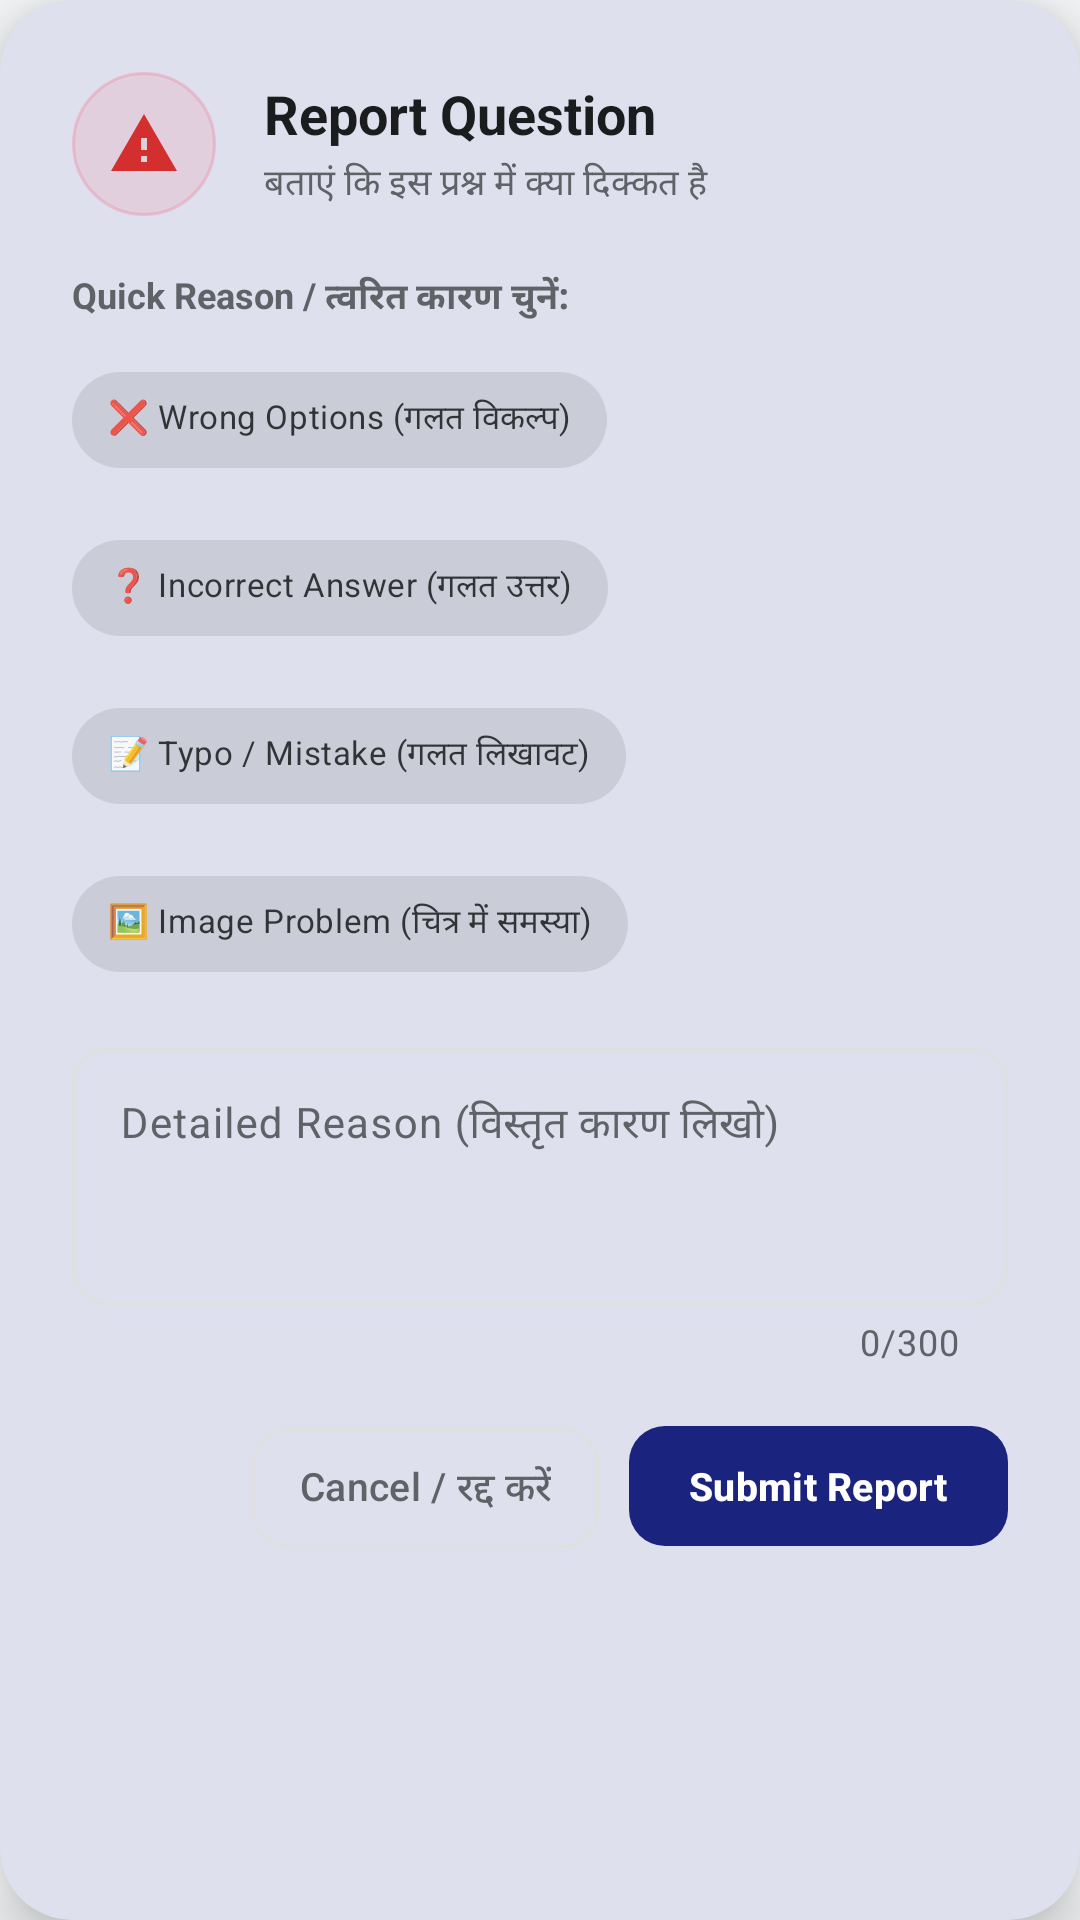

Where icons sit on this 1080 x 1920 app screen, as (x1, y1, x2, y2):
report quiz: (111, 114, 177, 171)
